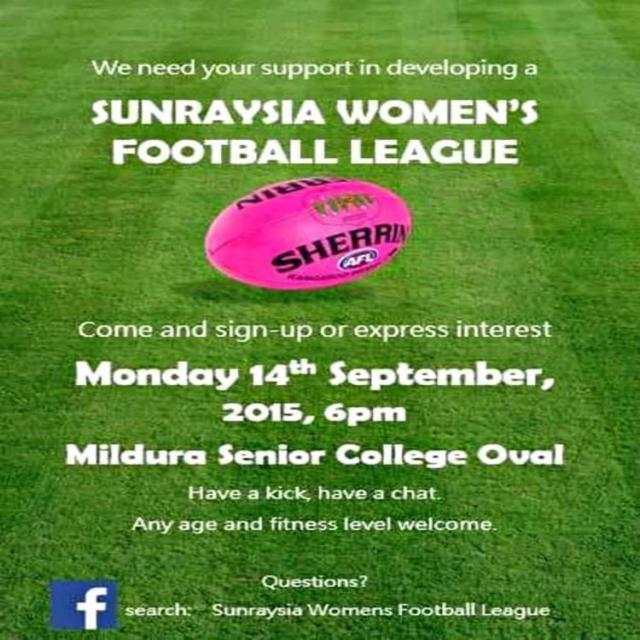Football: (203, 179, 412, 293)
